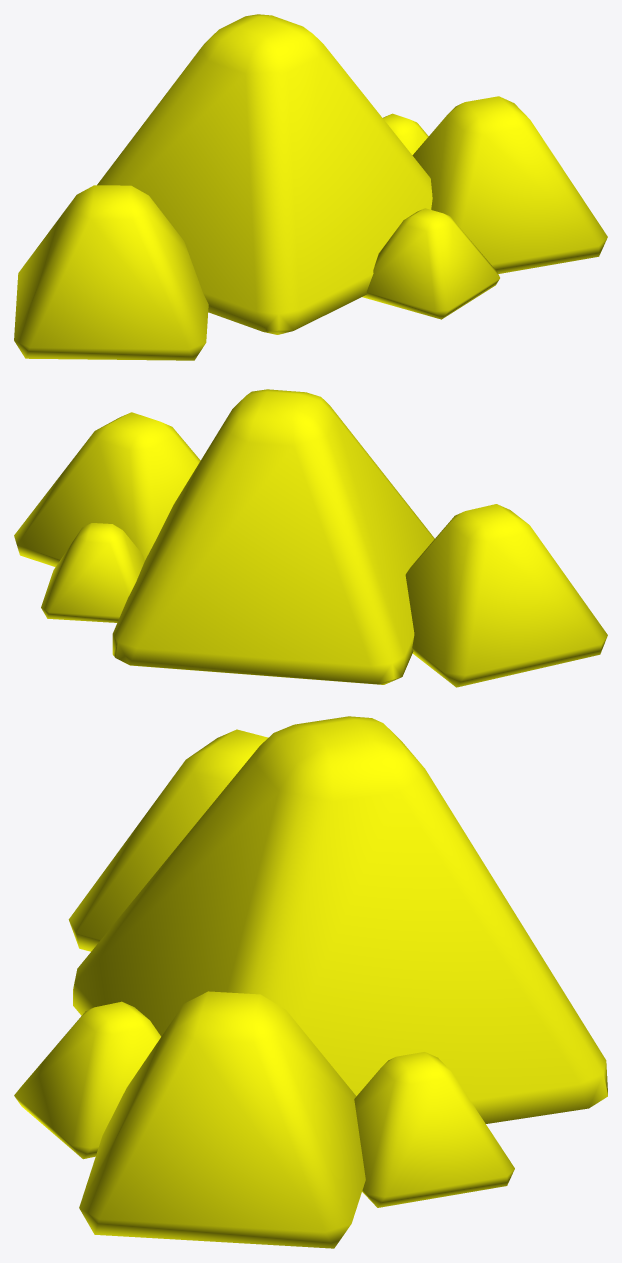
Rendered from kaykit-bush-4-f-color-1.glb.
The picture shows the model from 3 angles, top to bottom: view 1: azimuth 30°, elevation 25°; view 2: azimuth 150°, elevation 25°; view 3: azimuth 270°, elevation 25°; orthographic projection. The views are drawn at different scales.
Visible parts, largest first — view 1: Bush_4_F_Color1; view 2: Bush_4_F_Color1; view 3: Bush_4_F_Color1.
Part boxes in pixels (<box>): Bush_4_F_Color1: <box>14,14,607,360</box>; Bush_4_F_Color1: <box>14,389,607,687</box>; Bush_4_F_Color1: <box>14,716,607,1248</box>.
Size of the model in its own units: 3.39 by 1.3 by 2.14.
